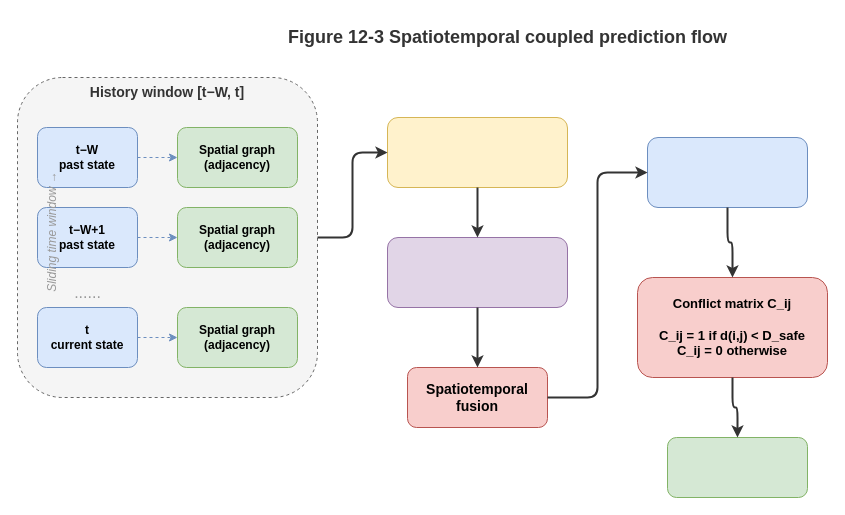
Some shapes in this 845 by 515 pixel diagram are drawn without their labels. Each missing label, with the centre of its shape:
"Conflict alert output" goes at (x=737, y=467).
"Future state forecast [t+1, t+H]" goes at (x=727, y=172).
"Graph attention network (Graph Attention Network)" goes at (x=477, y=272).
"Temporal encoding (Temporal Encoding)" goes at (x=477, y=152).
